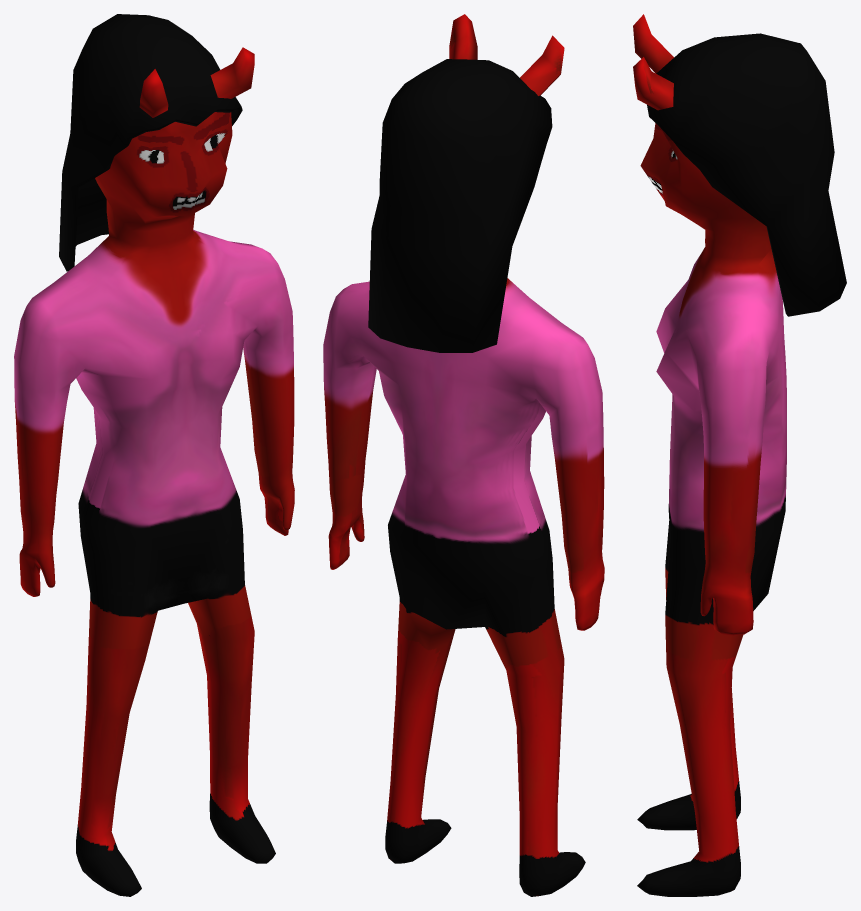
The model's file is Demon_Child_Female.fbx.
3 renders of one model, left to right at view 1: azimuth 30°, elevation 25°; view 2: azimuth 150°, elevation 25°; view 3: azimuth 270°, elevation 25°, orthographic.
Visible parts, largest first — view 1: FemaleChild; view 2: FemaleChild; view 3: FemaleChild.
Boxes of the visible parts, x1,y1,x2,y2 form: FemaleChild: (14, 14, 294, 896); FemaleChild: (323, 14, 604, 896); FemaleChild: (633, 14, 846, 896).
Size of the model in its own units: 78.43 by 230 by 53.94.
Materials: 2 (1 with a texture image).
